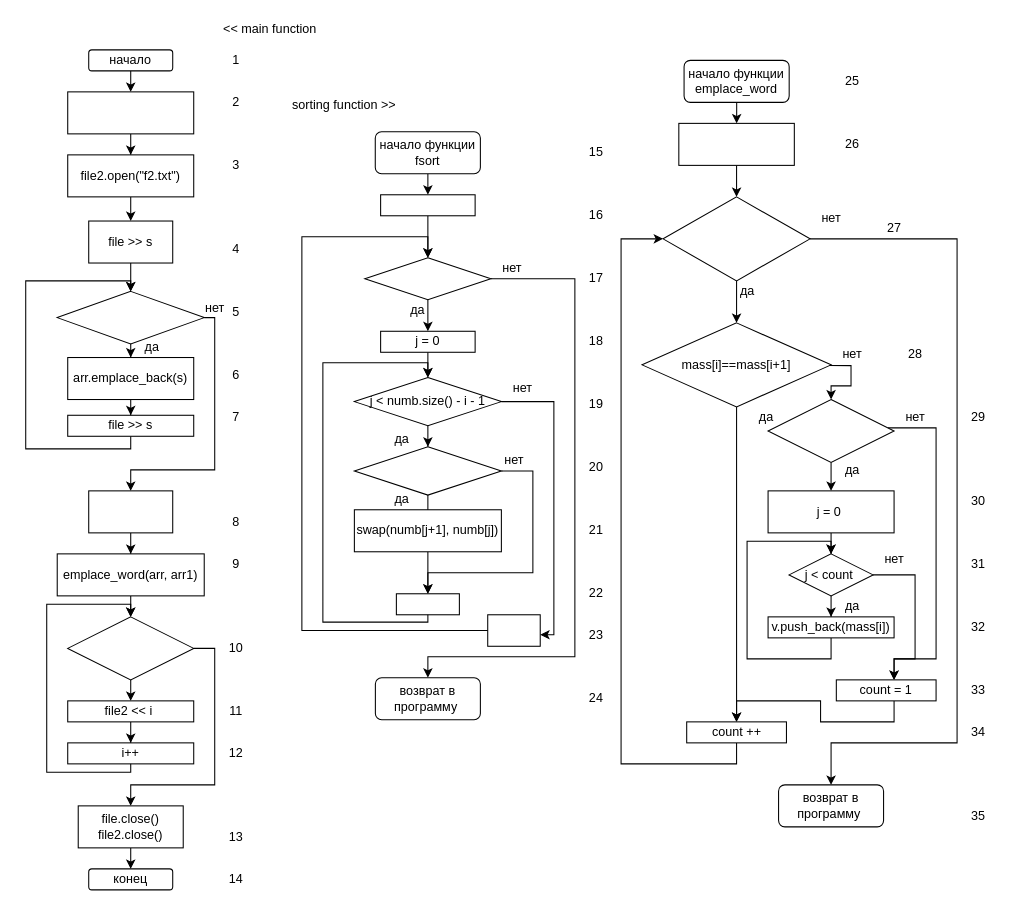
Some shapes in this 1017 by 908 pixel diagram are drawn without their labels. Here are the shapes that lost their labels. From the top down, the box of each, then its label:
(67, 91, 194, 134): file.open("f1.txt")
(678, 122, 794, 165): count = 1 i= 0
(380, 194, 475, 216): i = 0
(662, 196, 810, 281): i < mass.size()-1
(364, 257, 491, 300): i < numb.size ()
(56, 290, 204, 344): !file.eof()
(767, 398, 894, 463): count > 1
(353, 446, 501, 495): numb[j] < numb[j+1]
(88, 490, 173, 533): fsort(arr)
(395, 593, 459, 615): ++j
(67, 616, 194, 680): i : arr1
(487, 614, 540, 646): ++i
